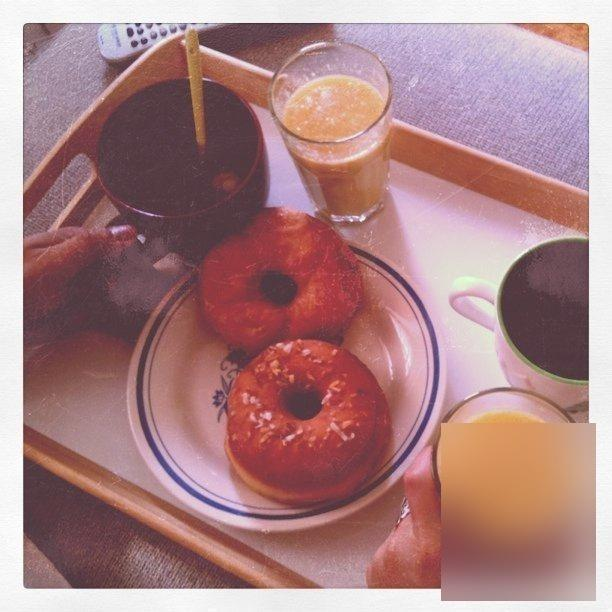cup-handle: (90, 76, 266, 242), (447, 233, 590, 411)
glass-normal: (269, 40, 396, 221)
